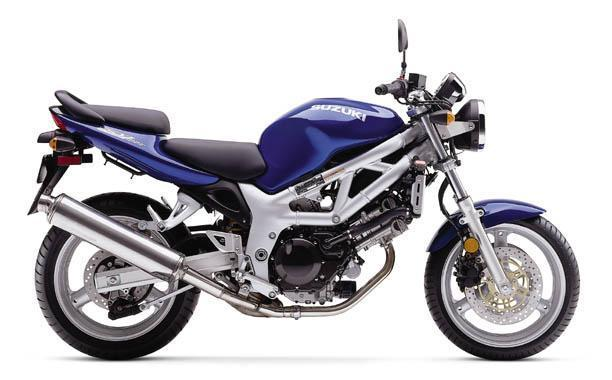Motorcycle: (11, 2, 611, 373)
